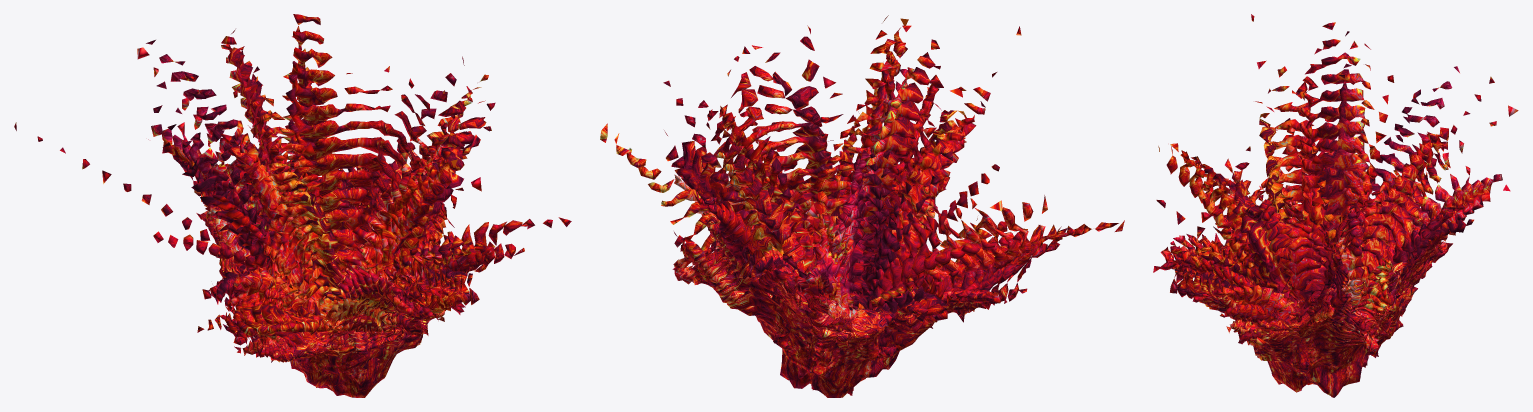
File: Blood1.fbx
3 views of the same model, side by side, from view 1: azimuth 30°, elevation 25°; view 2: azimuth 150°, elevation 25°; view 3: azimuth 270°, elevation 25° (orthographic). The views are drawn at different scales.
Visible parts, largest first — view 1: LODGroup_1_MainMesh_10_SubMesh_1, LODGroup_1_MainMesh_9_SubMesh_1, LODGroup_1_MainMesh_11_SubMesh_1, LODGroup_1_MainMesh_8_SubMesh_1, LODGroup_1_MainMesh_7_SubMesh_1, LODGroup_1_MainMesh_12_SubMesh_1, LODGroup_1_MainMesh_6_SubMesh_1, LODGroup_1_MainMesh_13_SubMesh_1, LODGroup_1_MainMesh_4_SubMesh_1, LODGroup_1_MainMesh_14_SubMesh_1, LODGroup_1_MainMesh_5_SubMesh_1, LODGroup_1_MainMesh_15_SubMesh_1 (+2 smaller); view 2: LODGroup_1_MainMesh_8_SubMesh_1, LODGroup_1_MainMesh_9_SubMesh_1, LODGroup_1_MainMesh_10_SubMesh_1, LODGroup_1_MainMesh_12_SubMesh_1, LODGroup_1_MainMesh_11_SubMesh_1, LODGroup_1_MainMesh_7_SubMesh_1, LODGroup_1_MainMesh_13_SubMesh_1, LODGroup_1_MainMesh_4_SubMesh_1, LODGroup_1_MainMesh_6_SubMesh_1, LODGroup_1_MainMesh_14_SubMesh_1, LODGroup_1_MainMesh_5_SubMesh_1, LODGroup_1_MainMesh_15_SubMesh_1 (+2 smaller); view 3: LODGroup_1_MainMesh_9_SubMesh_1, LODGroup_1_MainMesh_10_SubMesh_1, LODGroup_1_MainMesh_8_SubMesh_1, LODGroup_1_MainMesh_11_SubMesh_1, LODGroup_1_MainMesh_12_SubMesh_1, LODGroup_1_MainMesh_7_SubMesh_1, LODGroup_1_MainMesh_13_SubMesh_1, LODGroup_1_MainMesh_6_SubMesh_1, LODGroup_1_MainMesh_14_SubMesh_1, LODGroup_1_MainMesh_4_SubMesh_1, LODGroup_1_MainMesh_15_SubMesh_1, LODGroup_1_MainMesh_5_SubMesh_1 (+2 smaller).
Part boxes in pixels (left/top/right/bottom): LODGroup_1_MainMesh_10_SubMesh_1: left=123, top=87, right=488, bottom=366; LODGroup_1_MainMesh_9_SubMesh_1: left=141, top=81, right=477, bottom=365; LODGroup_1_MainMesh_11_SubMesh_1: left=102, top=74, right=506, bottom=363; LODGroup_1_MainMesh_8_SubMesh_1: left=161, top=108, right=467, bottom=369; LODGroup_1_MainMesh_7_SubMesh_1: left=182, top=132, right=458, bottom=387; LODGroup_1_MainMesh_12_SubMesh_1: left=82, top=61, right=522, bottom=362; LODGroup_1_MainMesh_6_SubMesh_1: left=200, top=159, right=446, bottom=387; LODGroup_1_MainMesh_13_SubMesh_1: left=60, top=47, right=534, bottom=360; LODGroup_1_MainMesh_4_SubMesh_1: left=236, top=193, right=417, bottom=397; LODGroup_1_MainMesh_14_SubMesh_1: left=37, top=31, right=552, bottom=356; LODGroup_1_MainMesh_5_SubMesh_1: left=218, top=175, right=434, bottom=388; LODGroup_1_MainMesh_15_SubMesh_1: left=14, top=14, right=571, bottom=360; LODGroup_1_MainMesh_8_SubMesh_1: left=670, top=110, right=1012, bottom=362; LODGroup_1_MainMesh_9_SubMesh_1: left=661, top=101, right=1027, bottom=378; LODGroup_1_MainMesh_10_SubMesh_1: left=648, top=85, right=1042, bottom=365; LODGroup_1_MainMesh_12_SubMesh_1: left=626, top=54, right=1080, bottom=365; LODGroup_1_MainMesh_11_SubMesh_1: left=638, top=70, right=1067, bottom=363; LODGroup_1_MainMesh_7_SubMesh_1: left=681, top=134, right=1007, bottom=395; LODGroup_1_MainMesh_13_SubMesh_1: left=614, top=26, right=1091, bottom=359; LODGroup_1_MainMesh_4_SubMesh_1: left=728, top=215, right=949, bottom=397; LODGroup_1_MainMesh_6_SubMesh_1: left=691, top=175, right=992, bottom=395; LODGroup_1_MainMesh_14_SubMesh_1: left=600, top=25, right=1118, bottom=361; LODGroup_1_MainMesh_5_SubMesh_1: left=711, top=193, right=971, bottom=393; LODGroup_1_MainMesh_15_SubMesh_1: left=664, top=15, right=1124, bottom=359; LODGroup_1_MainMesh_9_SubMesh_1: left=1178, top=31, right=1448, bottom=356; LODGroup_1_MainMesh_10_SubMesh_1: left=1167, top=100, right=1458, bottom=351; LODGroup_1_MainMesh_8_SubMesh_1: left=1156, top=63, right=1430, bottom=357; LODGroup_1_MainMesh_11_SubMesh_1: left=1160, top=60, right=1466, bottom=349; LODGroup_1_MainMesh_12_SubMesh_1: left=1153, top=74, right=1474, bottom=349; LODGroup_1_MainMesh_7_SubMesh_1: left=1176, top=163, right=1420, bottom=367; LODGroup_1_MainMesh_13_SubMesh_1: left=1170, top=14, right=1484, bottom=348; LODGroup_1_MainMesh_6_SubMesh_1: left=1197, top=169, right=1415, bottom=367; LODGroup_1_MainMesh_14_SubMesh_1: left=1166, top=52, right=1496, bottom=345; LODGroup_1_MainMesh_4_SubMesh_1: left=1235, top=237, right=1409, bottom=397; LODGroup_1_MainMesh_15_SubMesh_1: left=1158, top=39, right=1518, bottom=341; LODGroup_1_MainMesh_5_SubMesh_1: left=1216, top=201, right=1416, bottom=389.
Size of the model in its own units: 18.29 by 15.62 by 16.11.
1 material, 1 textured.
